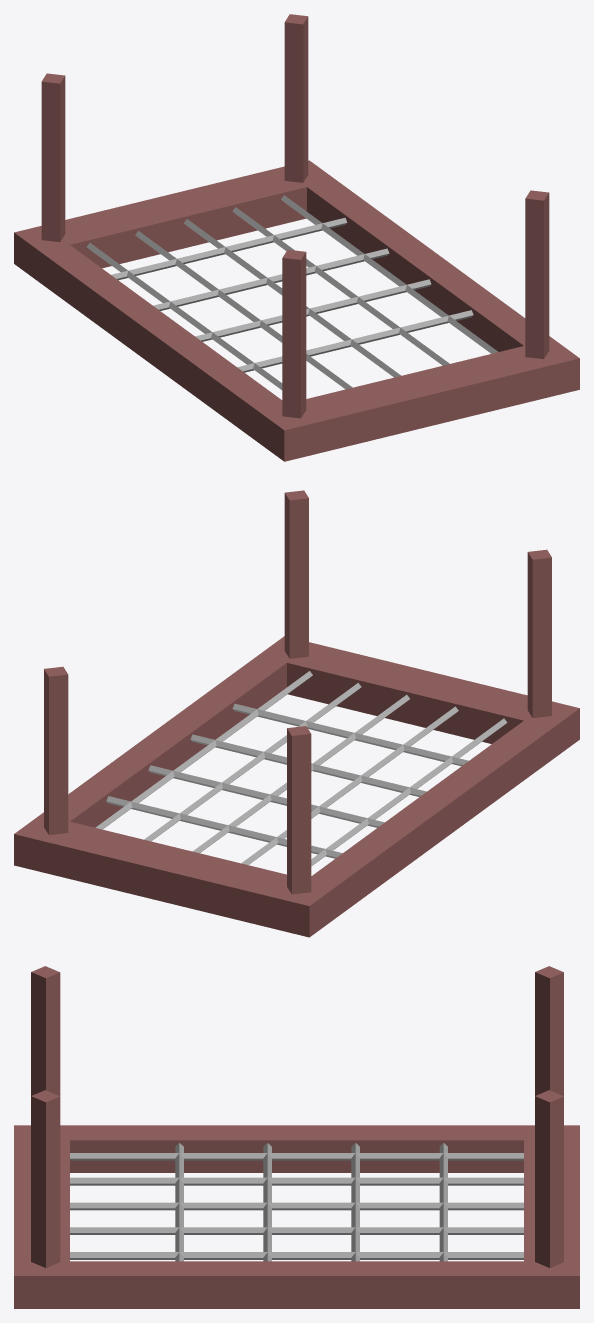
The model's file is CeilingHungRack3.fbx.
The picture shows the model from 3 angles, top to bottom: view 1: azimuth 30°, elevation 25°; view 2: azimuth 150°, elevation 25°; view 3: azimuth 270°, elevation 25°; orthographic projection. The views are drawn at different scales.
Parts seen in each view (by area): view 1: CeilingHungRack3; view 2: CeilingHungRack3; view 3: CeilingHungRack3.
Boxes of the visible parts, x1,y1,x2,y2 form: CeilingHungRack3: (14,14,579,461); CeilingHungRack3: (14,490,579,937); CeilingHungRack3: (14,966,579,1308).
Size of the model in its own units: 122 by 74.66 by 193.
